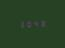eight: (39, 19, 45, 27)
four: (32, 19, 38, 27)
three: (18, 20, 24, 28)
zero: (25, 20, 31, 28)
